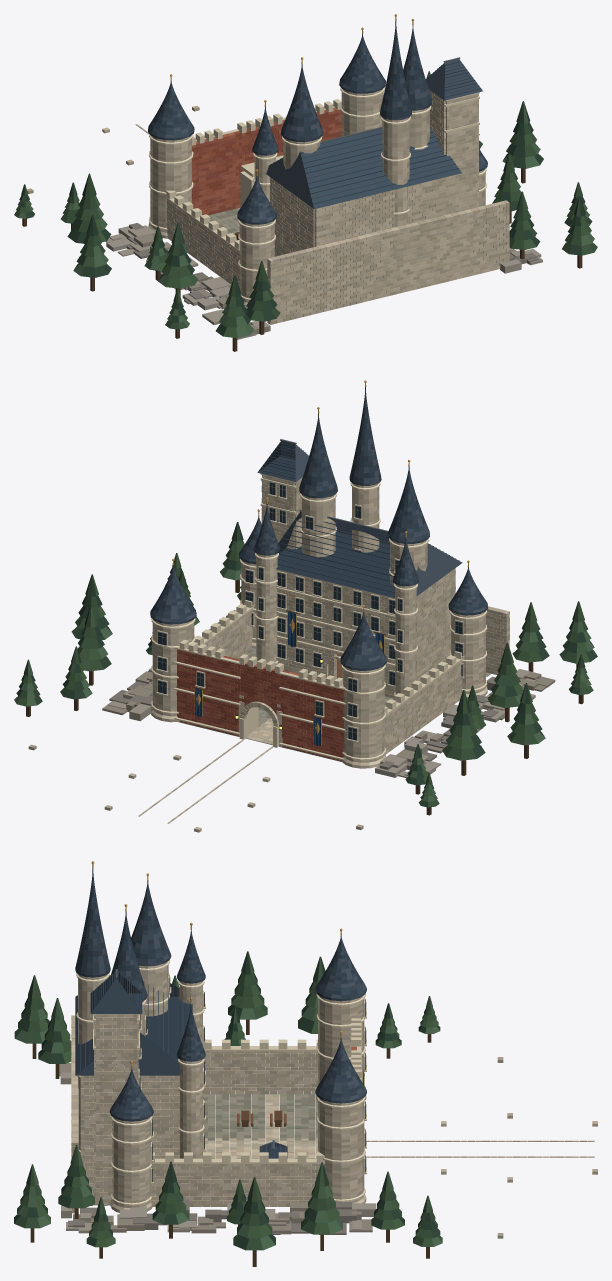
Rendered from Burg-Lichtfels.glb.
3 views of the same model, one above another, from view 1: azimuth 30°, elevation 25°; view 2: azimuth 150°, elevation 25°; view 3: azimuth 270°, elevation 25° (orthographic). The views are drawn at different scales.
Visible parts, largest first — view 1: Palas Schiefer.001, Fichten.003, Fichten.002, Rueckmauer.004, Rueckmauer.005, Fichten, Rueckmauer.001, Rueckmauer.002, Turmhelm, Turmhelm.001, Rueckmauer.003, Rueckmauer (+46 smaller); view 2: Fenster, Fichten.002, Palas Schiefer, Fichten, Fichten.003, Turmhelm.002, Turmhelm.003, Turmmauer.004, Turmmauer.002, Turmhelm.001, Turmhelm, Fichten.001 (+39 smaller); view 3: Fichten.001, Fichten.002, Fichten, Fichten.003, Turmhelm.003, Turmhelm.001, Turmhelm, Turmhelm.002, Turmmauer.001, Turmmauer.002, Turmmauer.005, Turmmauer.003 (+39 smaller).
Boxes of the visible parts, left/top/right/bottom form: Palas Schiefer.001: left=300, top=128, right=461, bottom=209; Fichten.003: left=20, top=102, right=592, bottom=336; Fichten.002: left=14, top=72, right=597, bottom=329; Rueckmauer.004: left=267, top=207, right=509, bottom=314; Rueckmauer.005: left=267, top=200, right=509, bottom=319; Fichten: left=16, top=71, right=591, bottom=337; Rueckmauer.001: left=267, top=201, right=509, bottom=323; Rueckmauer.002: left=267, top=204, right=509, bottom=318; Turmhelm: left=150, top=25, right=486, bottom=222; Turmhelm.001: left=148, top=21, right=487, bottom=224; Rueckmauer.003: left=272, top=211, right=509, bottom=315; Rueckmauer: left=267, top=206, right=509, bottom=324; Fenster: left=158, top=482, right=462, bottom=740; Fichten.002: left=19, top=522, right=593, bottom=807; Palas Schiefer: left=276, top=532, right=395, bottom=597; Fichten: left=17, top=540, right=596, bottom=800; Fichten.003: left=16, top=522, right=597, bottom=807; Turmhelm.002: left=150, top=387, right=485, bottom=667; Turmhelm.003: left=151, top=387, right=488, bottom=670; Turmmauer.004: left=152, top=485, right=487, bottom=768; Turmmauer.002: left=152, top=487, right=485, bottom=768; Turmhelm.001: left=152, top=391, right=483, bottom=668; Turmhelm: left=150, top=387, right=487, bottom=670; Fichten.001: left=14, top=523, right=594, bottom=805; Fichten.001: left=14, top=955, right=442, bottom=1250; Fichten.002: left=14, top=952, right=440, bottom=1250; Fichten: left=20, top=951, right=442, bottom=1247; Fichten.003: left=18, top=951, right=440, bottom=1250; Turmhelm.003: left=76, top=868, right=366, bottom=1118; Turmhelm.001: left=75, top=869, right=366, bottom=1121; Turmhelm: left=76, top=876, right=363, bottom=1121; Turmhelm.002: left=75, top=869, right=366, bottom=1119; Turmmauer.001: left=78, top=966, right=364, bottom=1209; Turmmauer.002: left=78, top=964, right=365, bottom=1203; Turmmauer.005: left=78, top=970, right=364, bottom=1208; Turmmauer.003: left=78, top=966, right=366, bottom=1209.
Bounding box in the file's own units: 62.35 × 34.76 × 61.75.
